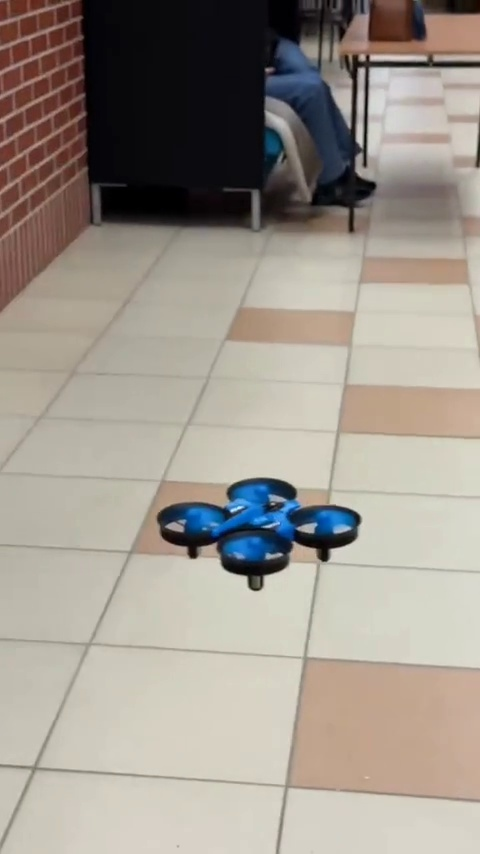drone: (156, 478, 358, 595)
